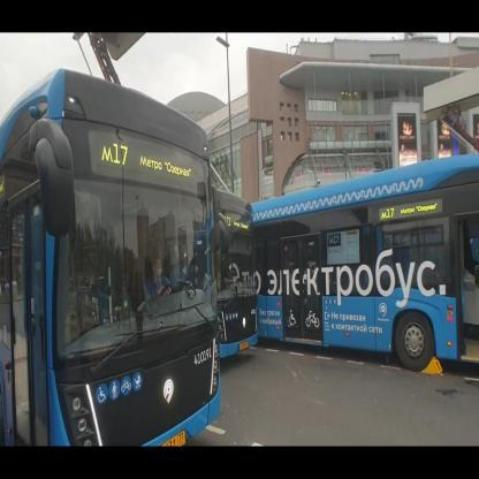bus: (0, 67, 218, 448), (253, 154, 479, 365), (215, 187, 257, 360)
